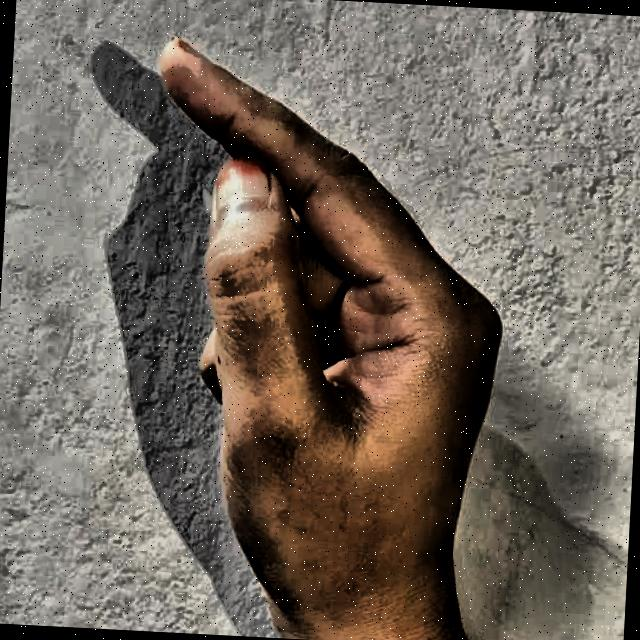Tha: (113, 14, 540, 640)
